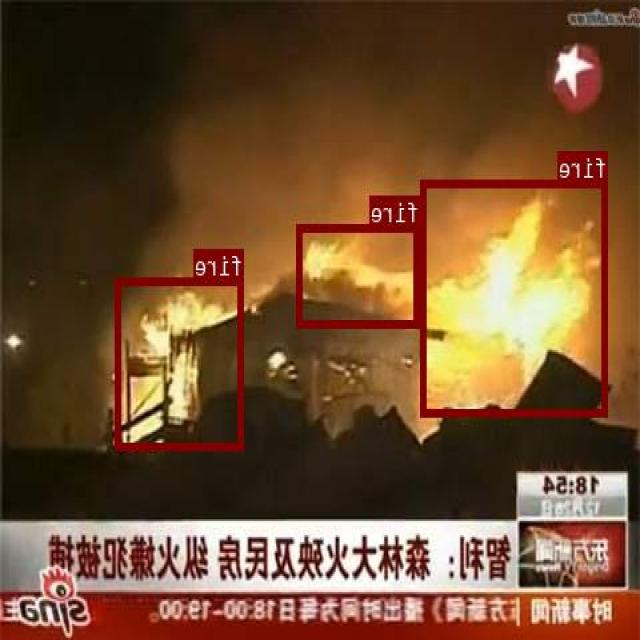fire: (422, 179, 609, 416), (117, 276, 245, 448), (298, 224, 421, 326)
